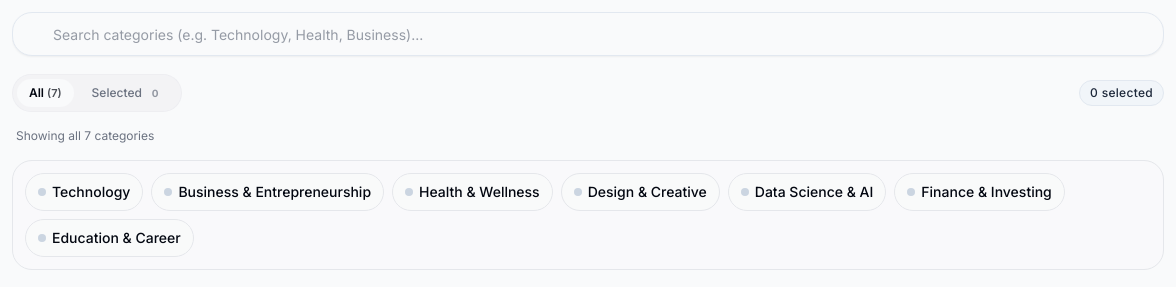
Test: CategorySelector Component Integration › clearing search query restores all category options
Type "wellness" into the field labelled "Search categories (e.g. Technology, Health, Business)..." at (588,34), box [12,12,1164,56]
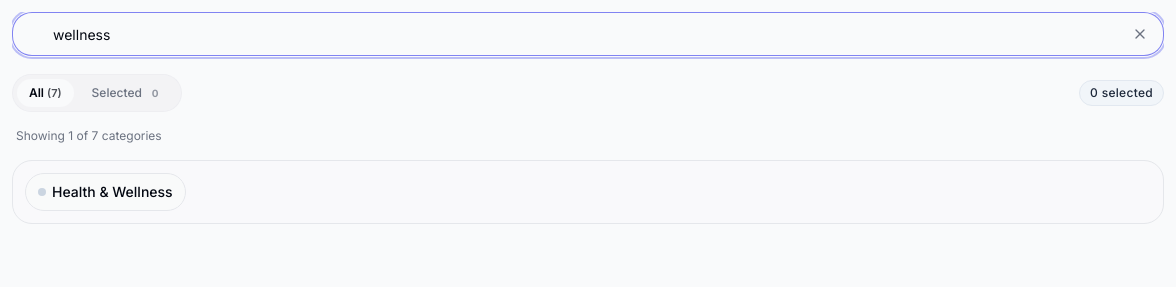
Check: the text "Health & Wellness" is shown, box [52,182,173,202]
Check: the button "Technology" is gone
Click the button named "clear search text" at (1140,34), box [1128,22,1152,46]
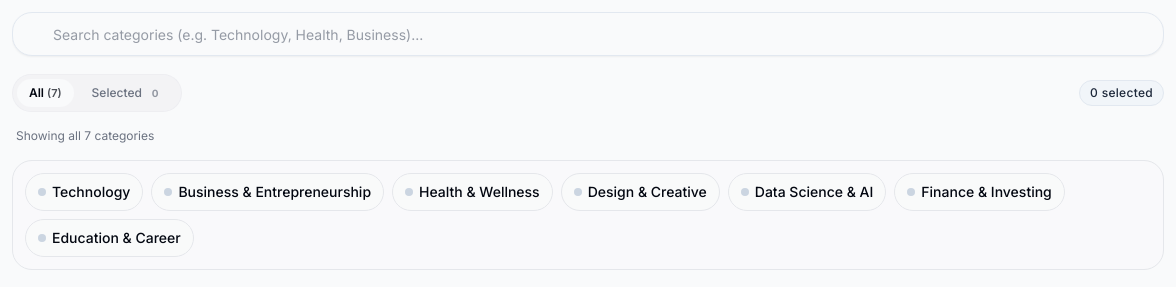
Check: the field labelled "Search categories (e.g. Technology, Health, Business)..." is empty, box [12,12,1164,56]
Check: the text "Technology" is shown, box [52,182,130,202]
Check: the text "Showing all 7 categories" is shown, box [16,128,154,144]
